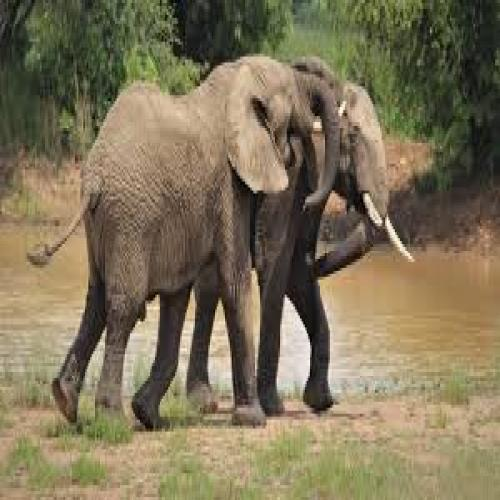asian_elephant-endangered: (35, 53, 343, 432), (179, 56, 414, 422)
